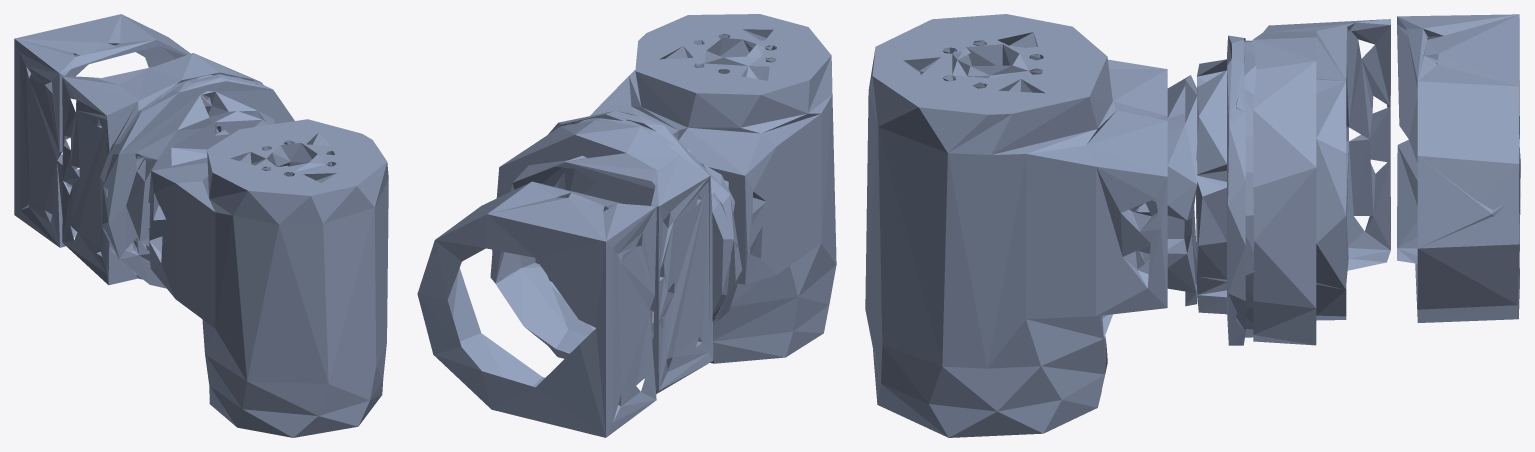
File: l_elbow_flection.dae
The picture shows the model from 3 angles, left to right: view 1: azimuth 30°, elevation 25°; view 2: azimuth 150°, elevation 25°; view 3: azimuth 270°, elevation 25°; orthographic projection. The views are drawn at different scales.
Visible parts, largest first — view 1: M4L; view 2: M4L; view 3: M4L.
Part boxes in pixels (x1,y1,x2,y2): M4L: [14, 14, 388, 437]; M4L: [417, 14, 836, 437]; M4L: [865, 14, 1520, 437].
Bounding box in the file's own units: 0.0516 × 0.11 × 0.0635.
